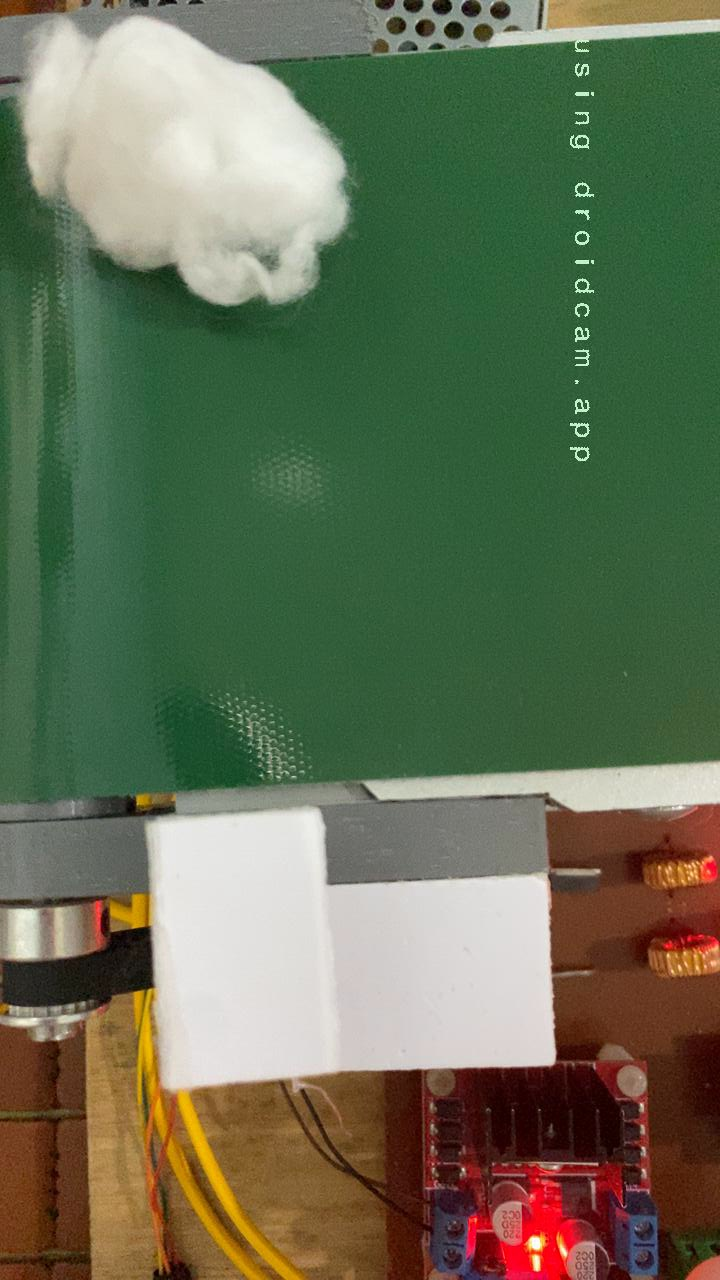cotton: (0, 47, 410, 313)
